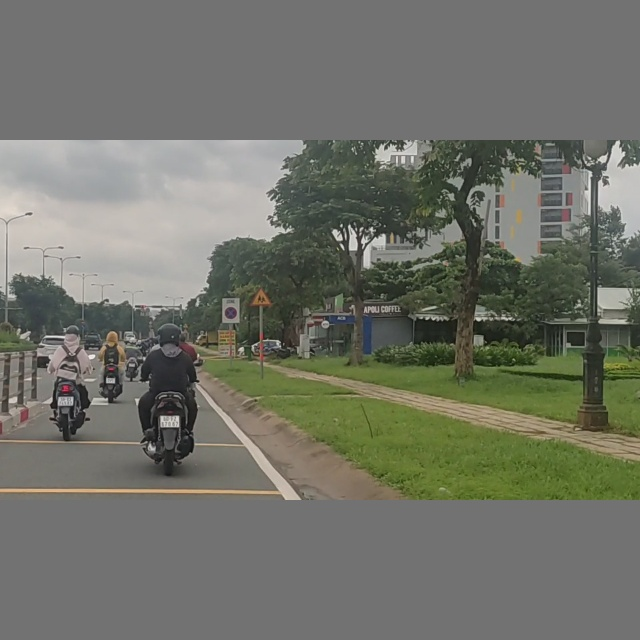P.130: (225, 307, 237, 319)
W.225: (250, 286, 271, 306)
